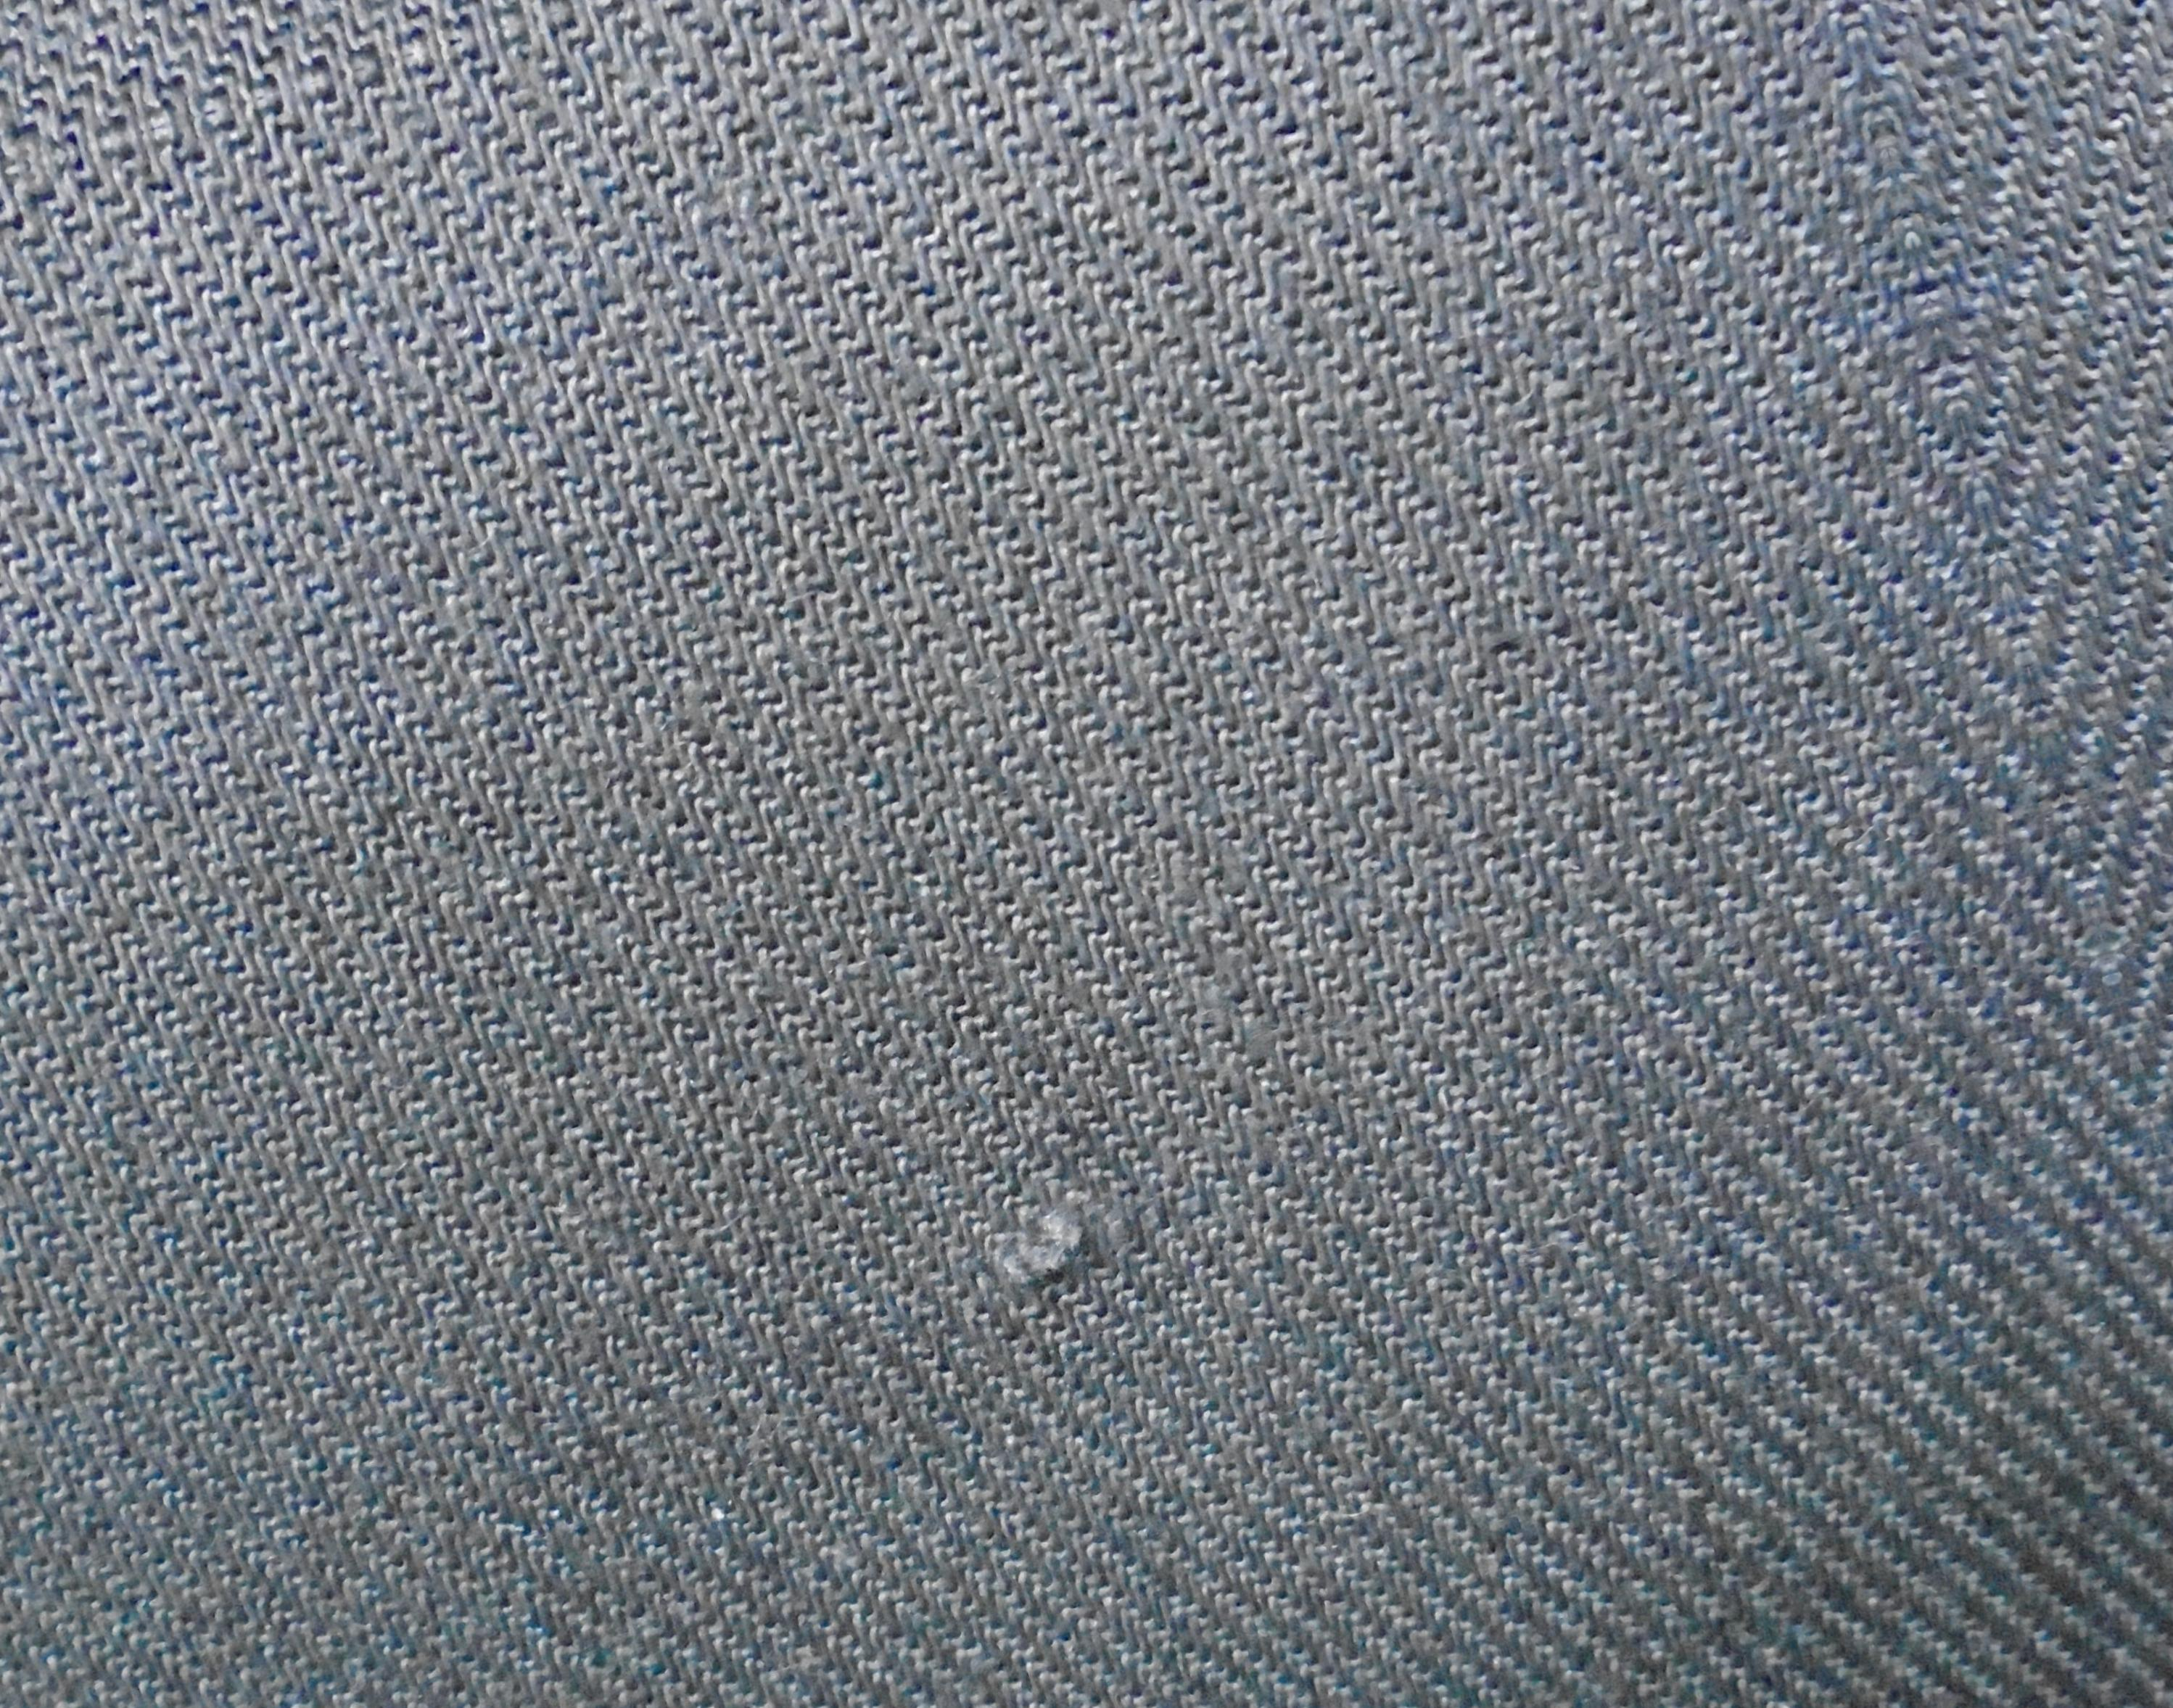knot: (949, 1172, 1138, 1332)
